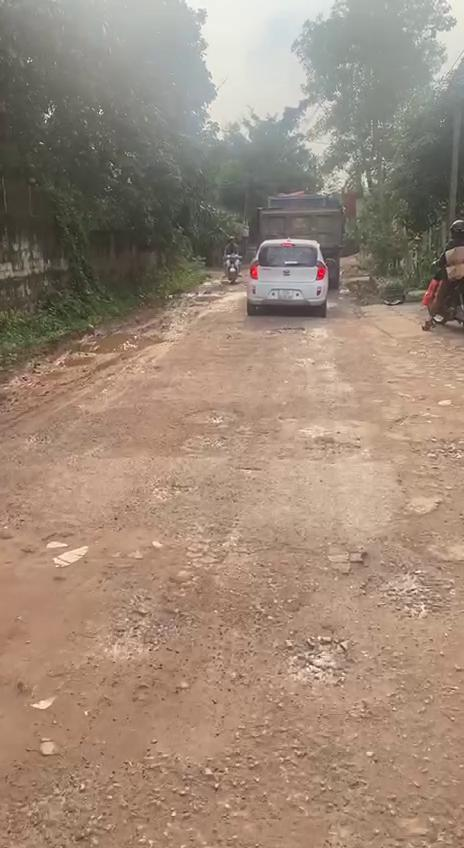pothole: (355, 560, 457, 618), (395, 486, 464, 566), (278, 630, 356, 689), (394, 414, 464, 476), (300, 433, 364, 464), (180, 405, 249, 426)
